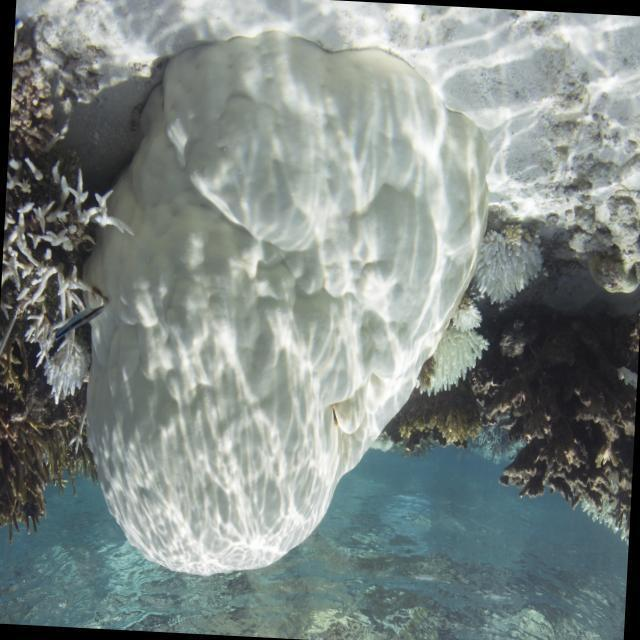Dead Coral: (476, 292, 640, 528)
